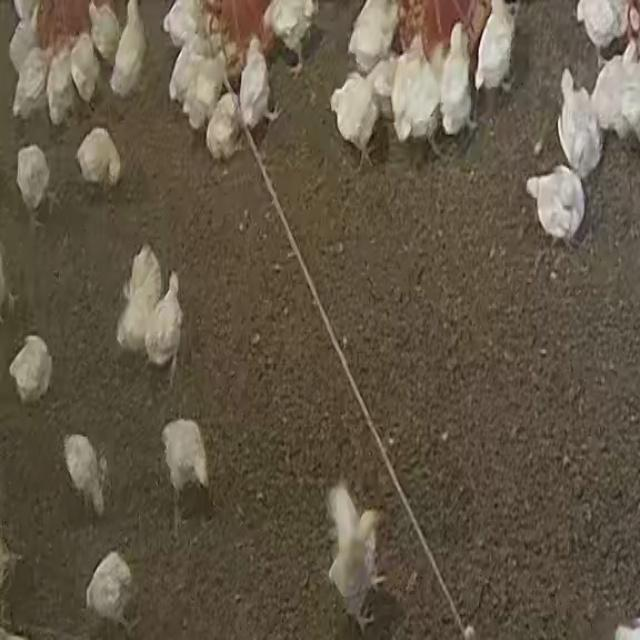chicken: (326, 481, 386, 623), (525, 164, 587, 249), (393, 43, 442, 150), (328, 70, 380, 167), (557, 70, 600, 178), (160, 418, 210, 507), (473, 0, 519, 96), (592, 43, 635, 142), (85, 549, 135, 631), (438, 24, 473, 140), (111, 0, 152, 97), (65, 433, 109, 519), (347, 0, 399, 72), (190, 39, 229, 128), (150, 270, 184, 372), (8, 333, 53, 409), (239, 36, 273, 133), (117, 277, 156, 356), (12, 47, 52, 123), (75, 126, 122, 190), (576, 0, 624, 59), (16, 143, 51, 220), (206, 94, 242, 164), (268, 0, 316, 51), (168, 37, 199, 114), (8, 8, 43, 72), (84, 2, 122, 59), (70, 34, 100, 104), (163, 0, 203, 50), (366, 55, 396, 119), (48, 46, 72, 124)
